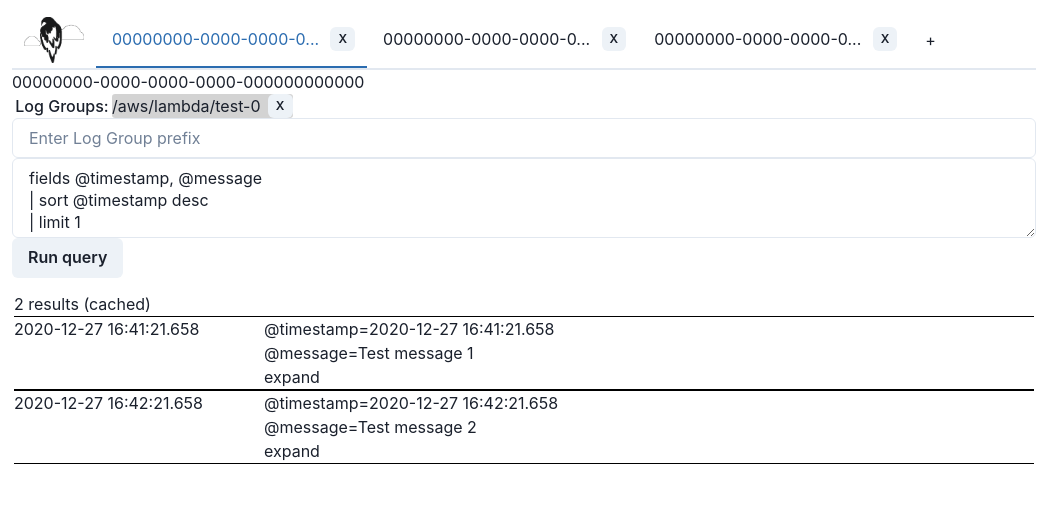
Test case: log view › should allow a log result to be expanded and collapsed
Expected: the text "collapse" is not shown
Expected: the text "Test message 1" is shown, [358,343,474,363]
Click the link "expand" below "Test message 1" at (292, 377), box [264,367,320,387]
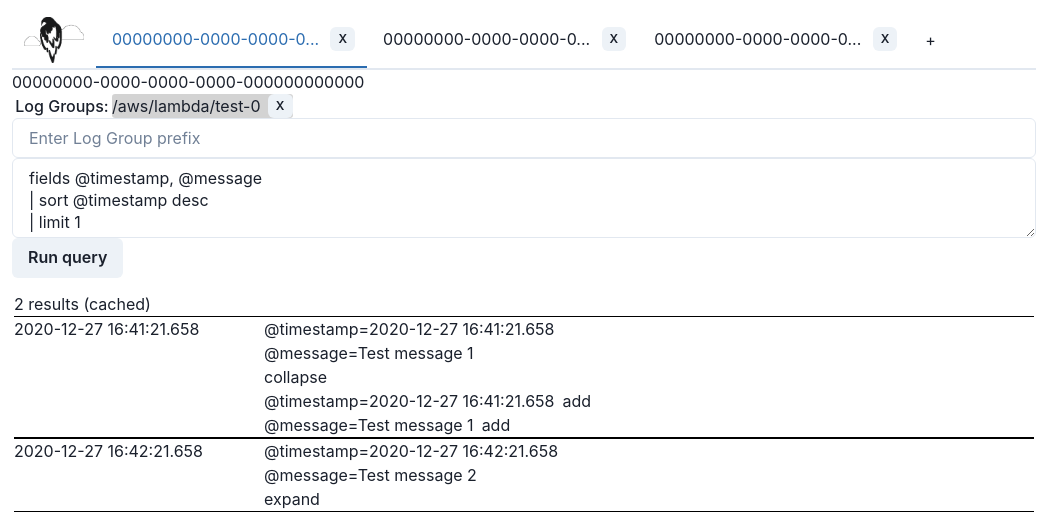
Result: the link "collapse" is shown
Click the link "collapse" at (296, 377), box [264,367,327,387]
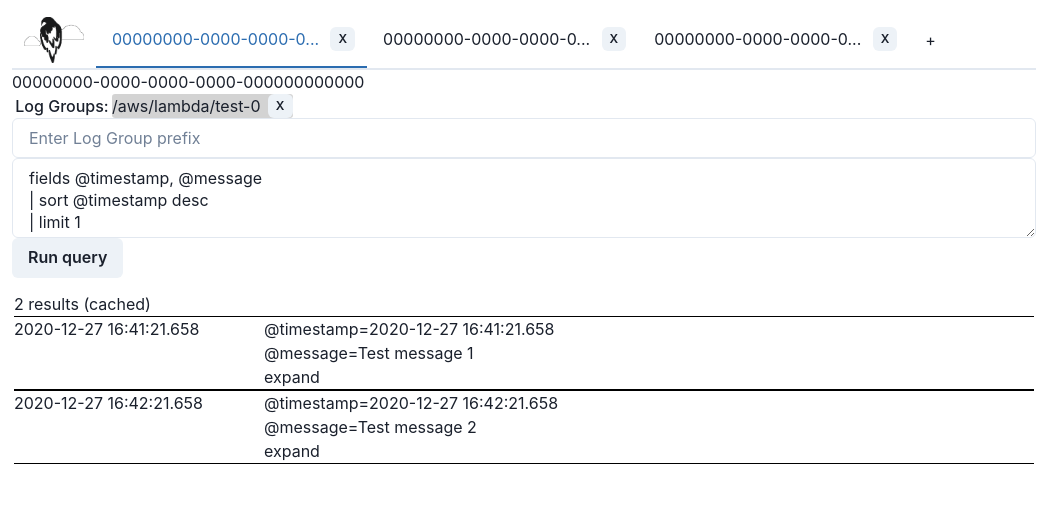
Expected: the text "Test message 1" is shown, [358,343,474,363]
Result: the link "collapse" is gone
Result: the link "expand" below "Test message 1" is shown at [264,367,320,387]
